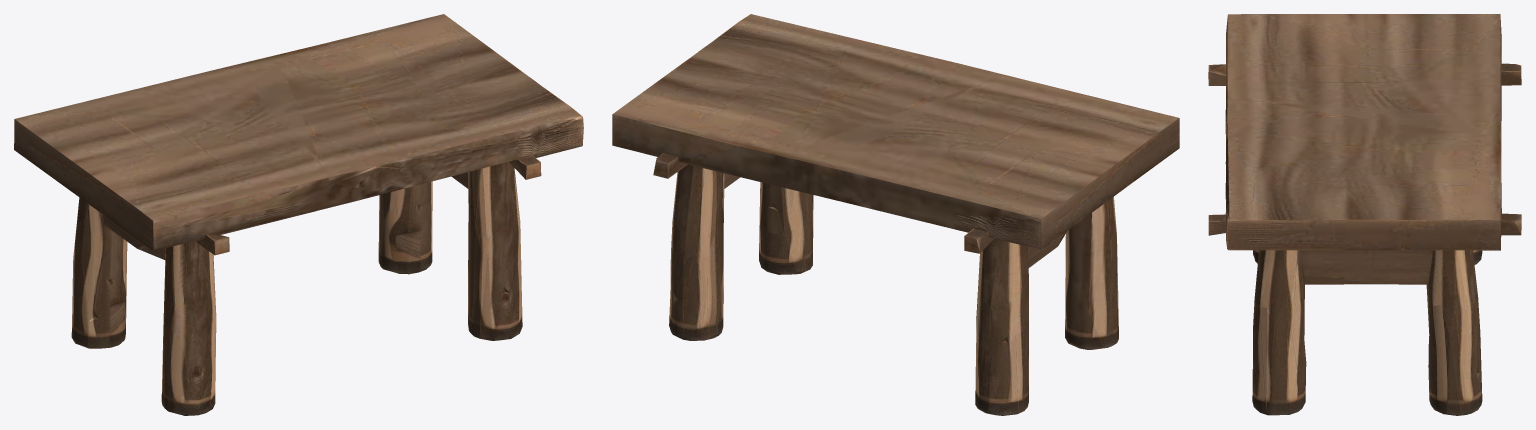
Rendered from Table_Wooden.glb.
3 renders of one model, left to right at view 1: azimuth 30°, elevation 25°; view 2: azimuth 150°, elevation 25°; view 3: azimuth 270°, elevation 25°, orthographic.
Size of the model in its own units: 1.9 by 0.9259 by 1.22.
Materials: 1 (1 with a texture image).
